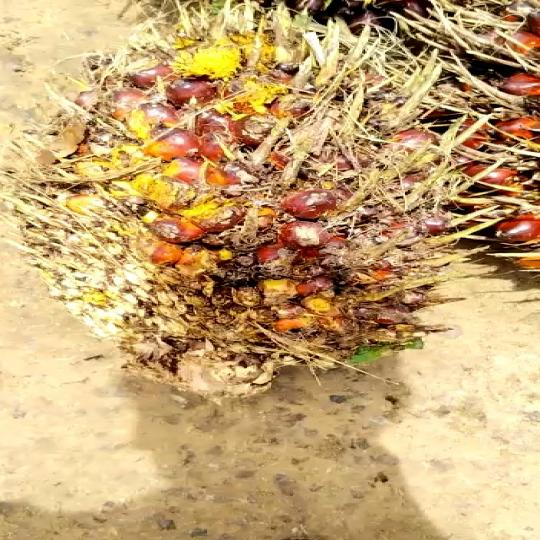masak: (4, 16, 522, 410)
